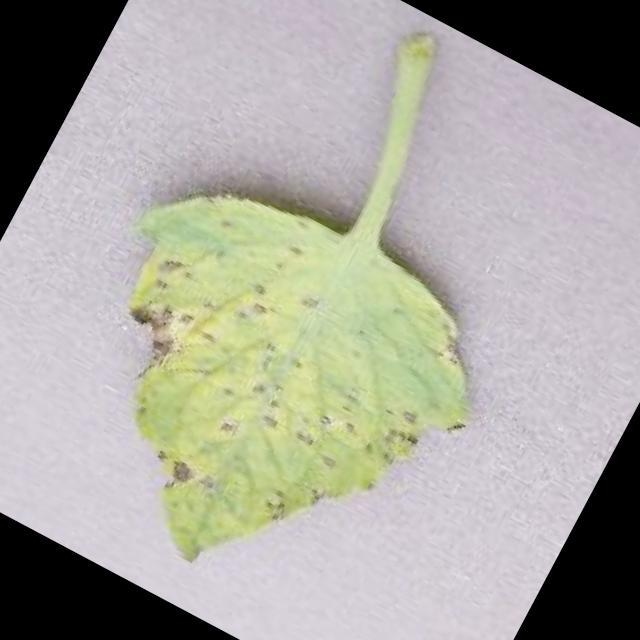Tomato Septoria spot leaf: (7, 147, 519, 640)
